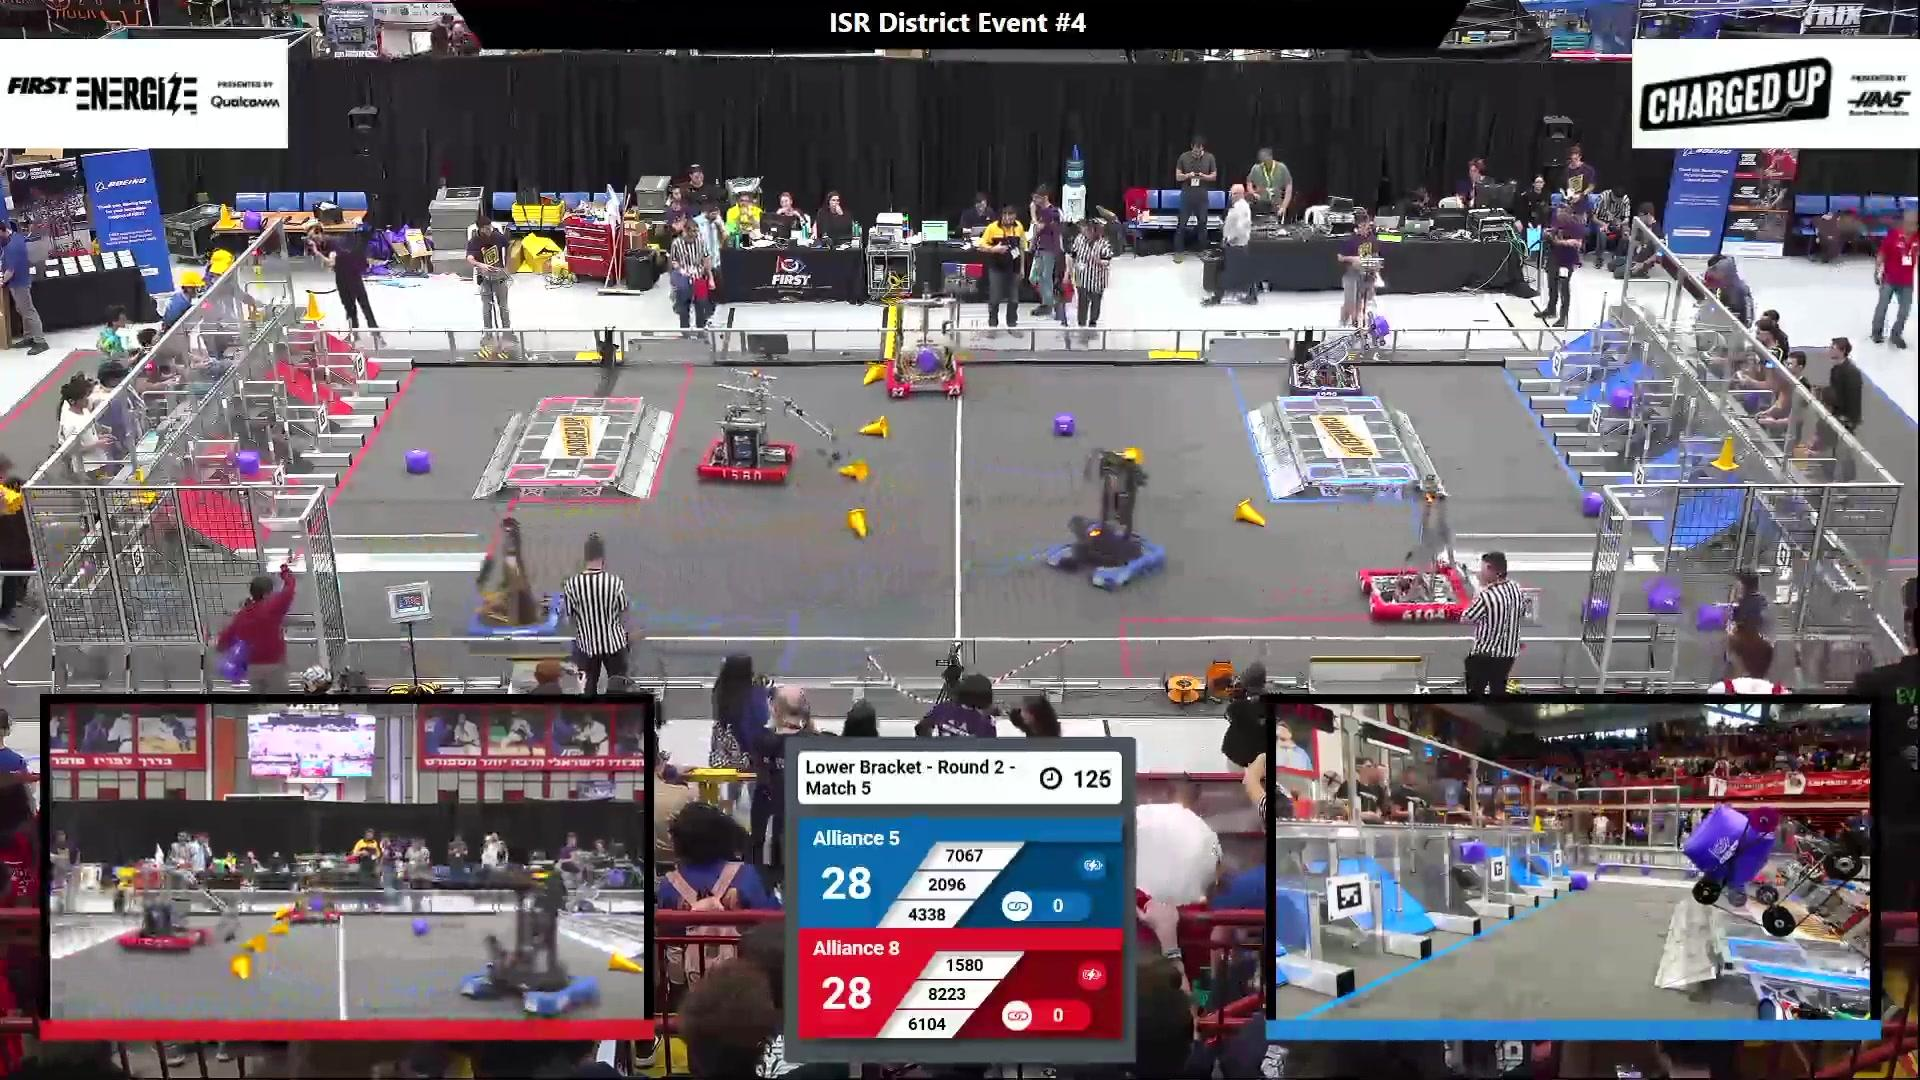robot: (1680, 802, 1869, 1021), (460, 860, 600, 1015), (1043, 442, 1166, 592), (696, 373, 853, 484), (1361, 480, 1477, 622), (465, 509, 567, 640), (116, 858, 247, 955), (1287, 311, 1391, 397), (880, 295, 965, 398), (287, 849, 348, 928)
